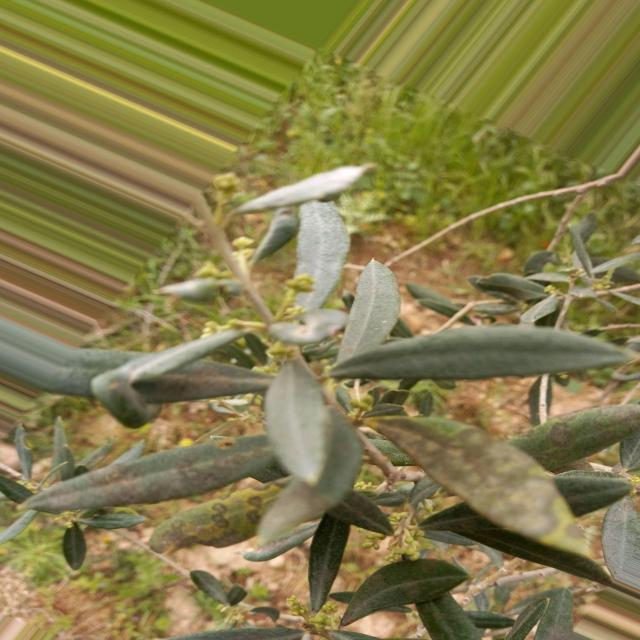Peacock Eye: (376, 418, 589, 559), (149, 482, 284, 552)
